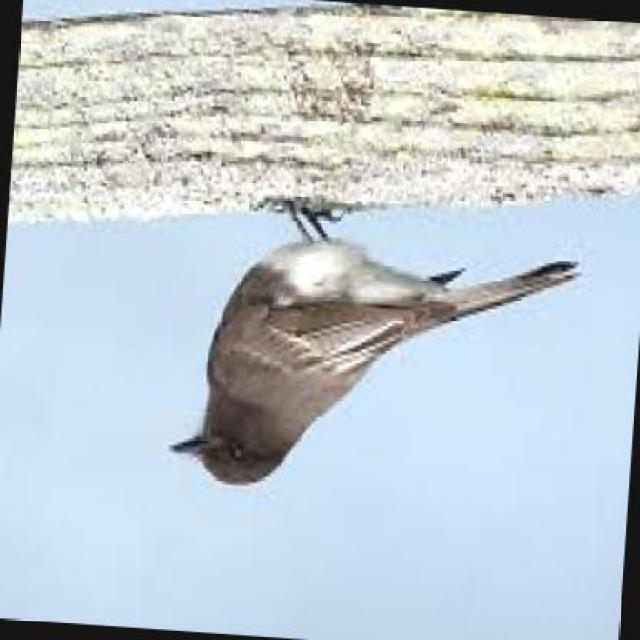Bird: (161, 197, 585, 494)
